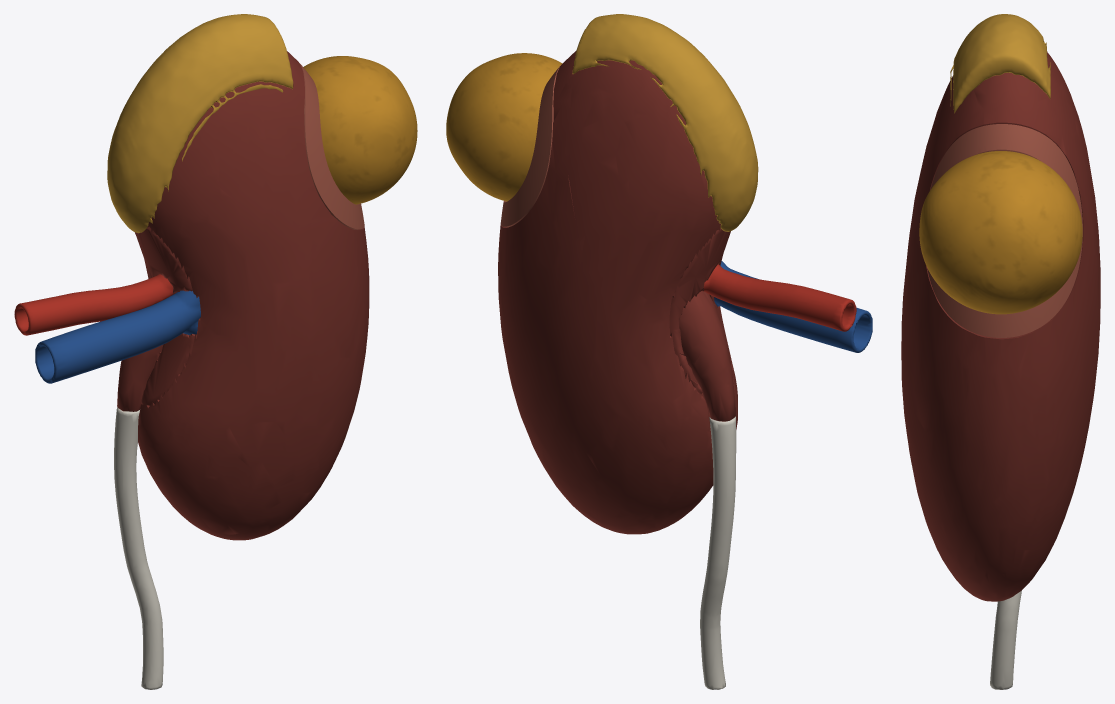
File: kidney_partial_nephrectomy.glb
3 renders of one model, left to right at view 1: azimuth 30°, elevation 25°; view 2: azimuth 150°, elevation 25°; view 3: azimuth 270°, elevation 25°, orthographic. The views are drawn at different scales.
Parts seen in each view (by area): view 1: kidney_body, adrenal_gland, tumor, renal_vein, ureter, renal_artery, resection_margin; view 2: kidney_body, adrenal_gland, tumor, ureter, renal_artery, renal_vein, resection_margin; view 3: kidney_body, tumor, resection_margin, adrenal_gland, ureter.
Boxes of the visible parts, x1,y1,x2,y2 form: kidney_body: (117,51,369,540); adrenal_gland: (107,14,293,233); tumor: (303,56,417,204); renal_vein: (35,290,200,383); ureter: (114,407,163,689); renal_artery: (14,274,175,335); resection_margin: (299,63,364,229); kidney_body: (498,50,737,534); adrenal_gland: (572,14,758,231); tumor: (446,53,562,201); ureter: (700,416,736,689); renal_artery: (701,264,856,331); renal_vein: (714,261,872,352); resection_margin: (500,65,560,227); kidney_body: (901,52,1100,601); tumor: (919,151,1082,314); resection_margin: (927,124,1082,337); adrenal_gland: (950,14,1050,113); ureter: (990,590,1021,689).
Size of the model in its own units: 8.96 by 14.23 by 3.65.
